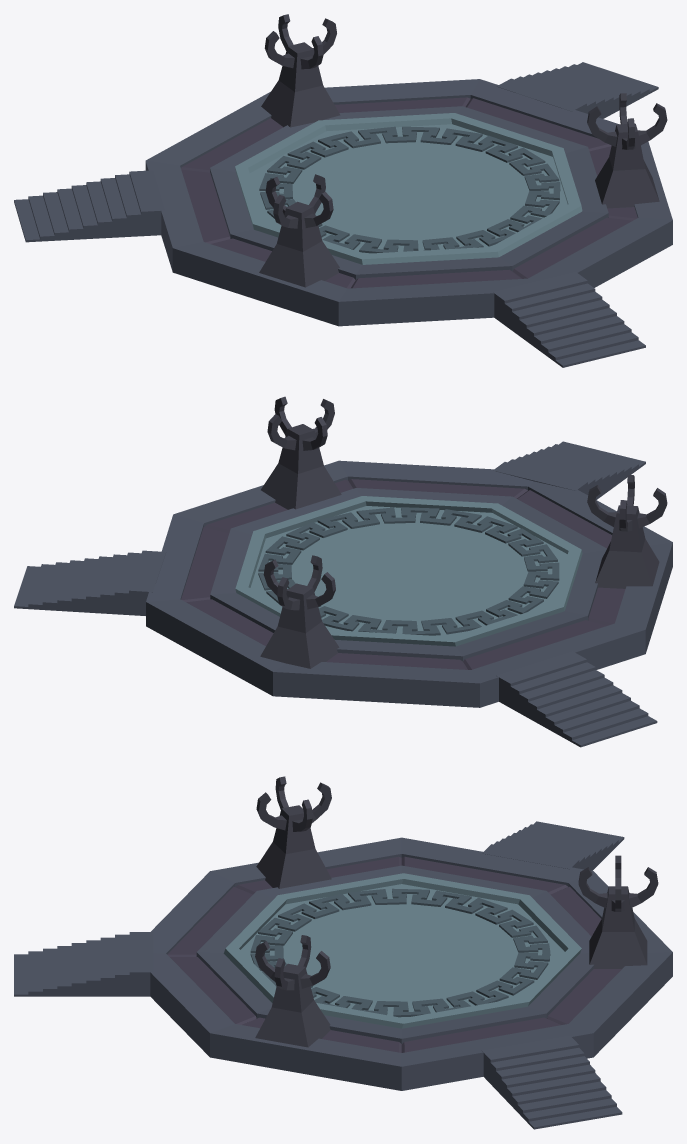
File: Altar2.fbx
3 renders of one model, top to bottom at view 1: azimuth 30°, elevation 25°; view 2: azimuth 150°, elevation 25°; view 3: azimuth 270°, elevation 25°, orthographic.
Parts seen in each view (by area): view 1: Altar; view 2: Altar; view 3: Altar.
Part boxes in pixels (box(x1,y1,x2,y2)): Altar: box(14, 14, 672, 367); Altar: box(14, 396, 672, 747); Altar: box(14, 776, 672, 1129).
Bounding box in the file's own units: 2037 × 337 × 1853.
